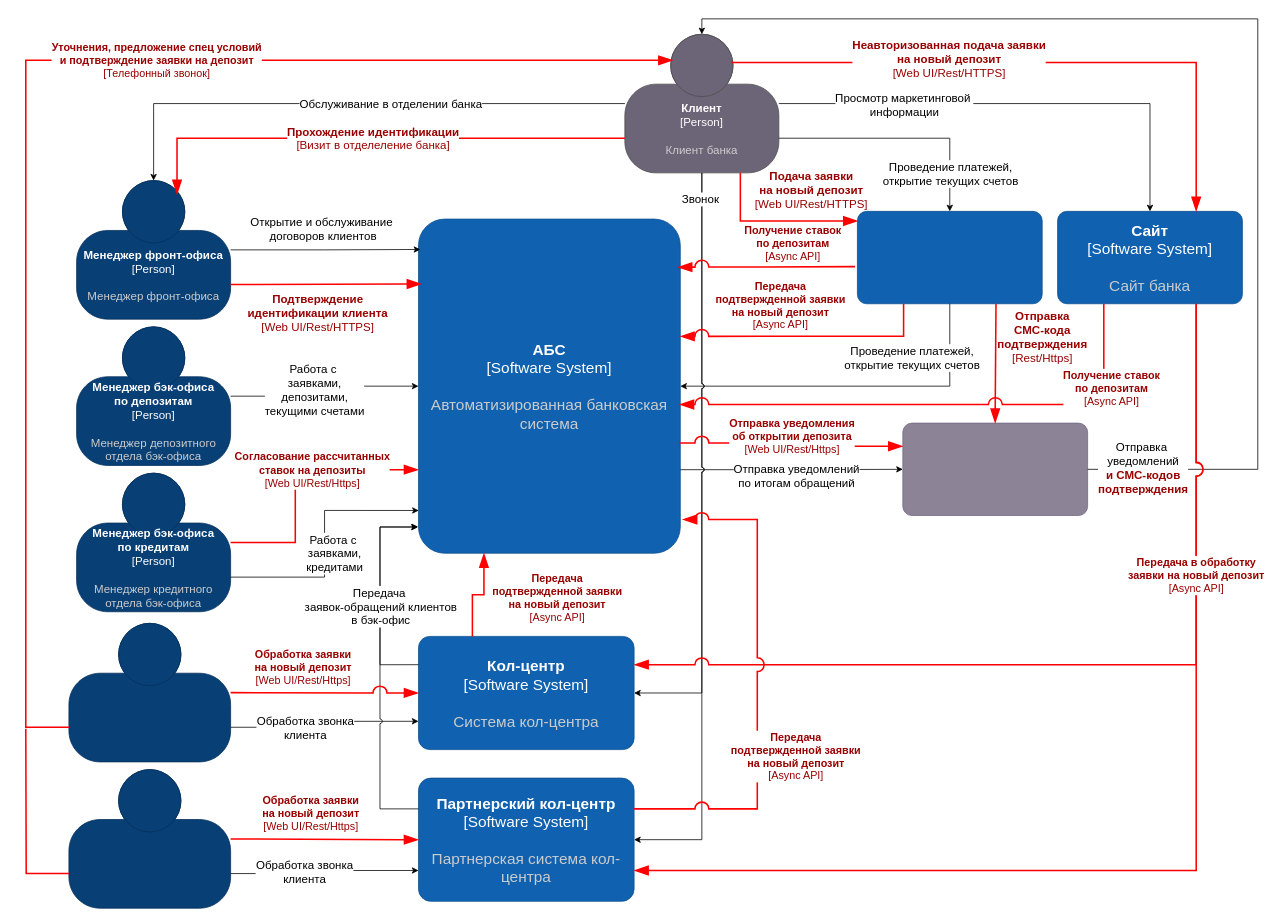
Image size: 1277x922. Some labels were removed from this diagram. Here are the shapes that lost their labels. From the top down, the box of each, then its label:
(857, 211, 1042, 304): Интернет-банк [Software System] Интернет-банк
(902, 422, 1088, 516): СМС-шлюз [Software System] СМС-шлюз телеком-оператора
(68, 623, 231, 762): Менеджер кол-центра [Person] Менеджер кол-центра
(68, 769, 231, 908): Менеджер партнерского кол-центра [Person] Менеджер партнерского кол-центра
